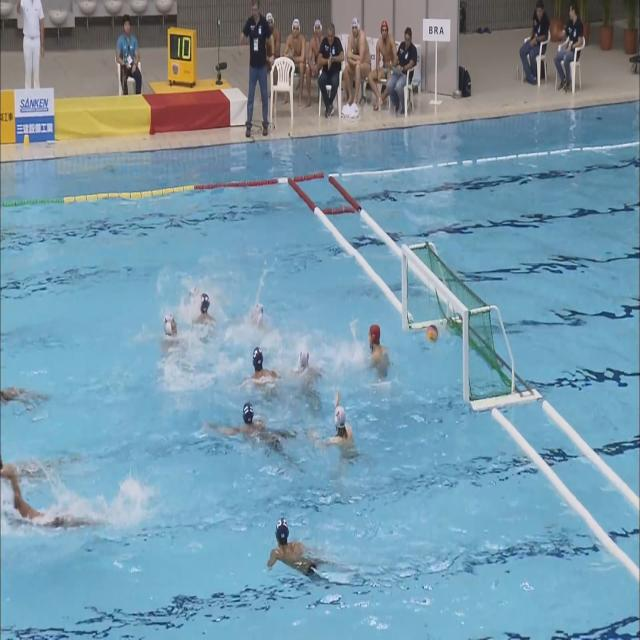ball: (427, 325, 438, 341)
